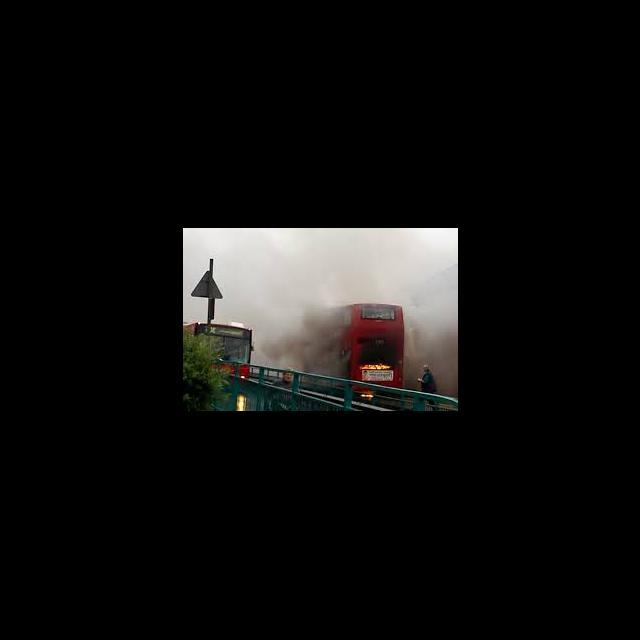Fire: (360, 363, 392, 372), (359, 393, 373, 400)
Smoke: (261, 238, 455, 364)
